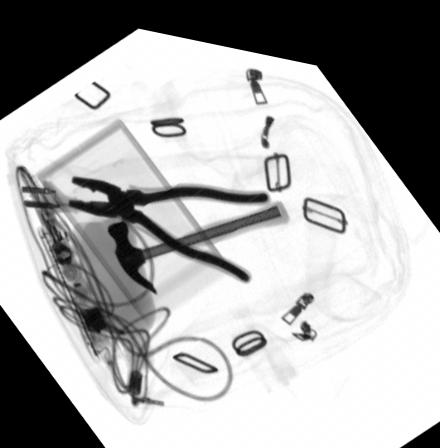Hammer: (103, 186, 290, 287)
Pliers: (66, 172, 270, 274)
